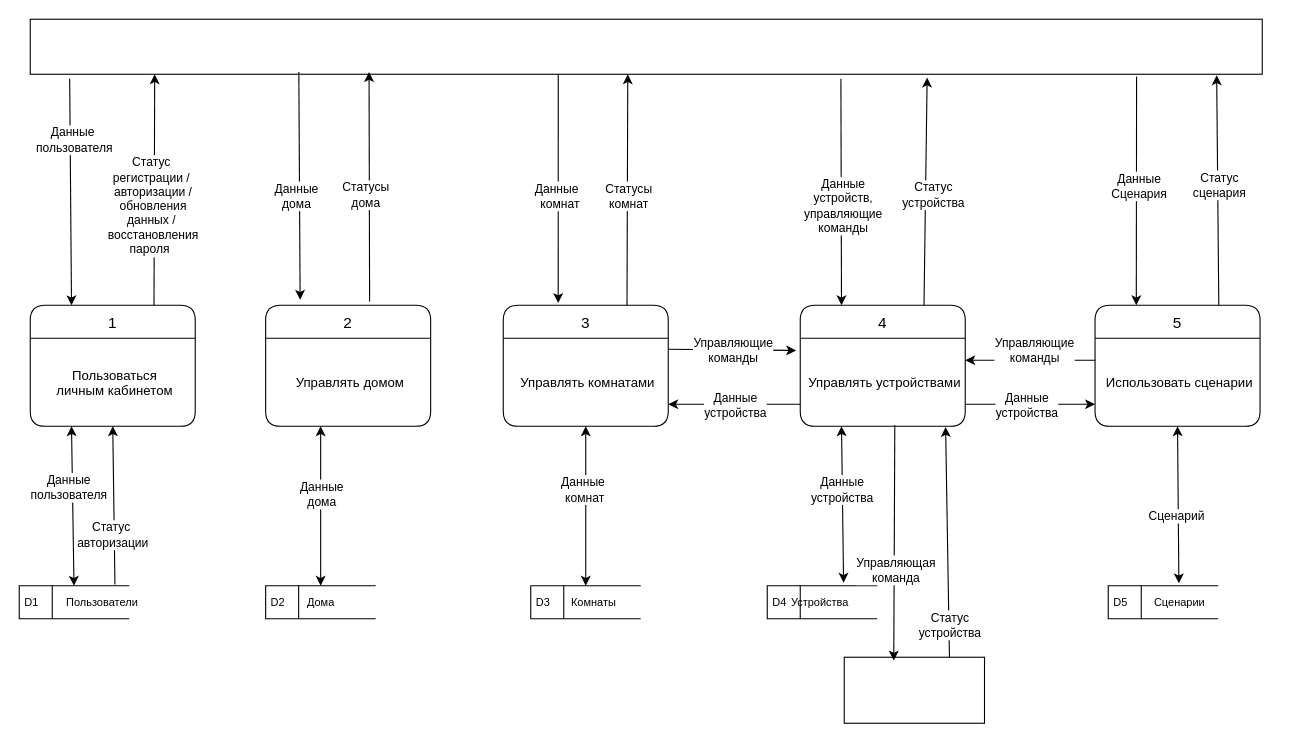
The diagram is 1290 pixels wide and 743 high, and some of its shapes have lost their labels. Each missing label, with the centre of its shape:
"Пользователь" belongs at (x=645, y=46).
"Умное устройство" belongs at (x=914, y=689).
